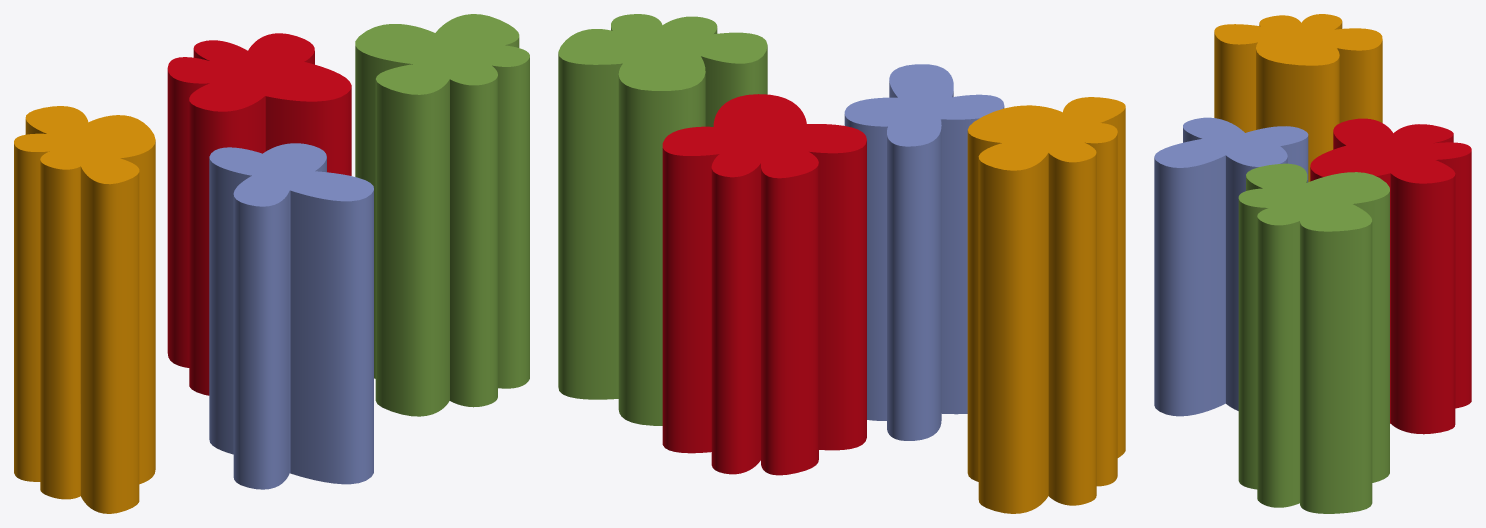
Rendered from superArchitetture NUVOLE.fbx.
3 renders of one model, left to right at view 1: azimuth 30°, elevation 25°; view 2: azimuth 150°, elevation 25°; view 3: azimuth 270°, elevation 25°, orthographic. The views are drawn at different scales.
Parts seen in each view (by area): view 1: Curve_001, Curve_002, Curve_004, Curve_003; view 2: Curve_003, Curve_002, Curve_001, Curve_004; view 3: Curve_001, Curve_003, Curve_004, Curve_002.
Boxes of the visible parts, x1,y1,x2,y2 form: Curve_001: (355, 14, 529, 416); Curve_002: (14, 106, 155, 513); Curve_004: (209, 143, 373, 489); Curve_003: (167, 33, 351, 395); Curve_003: (662, 94, 866, 475); Curve_002: (967, 97, 1125, 513); Curve_001: (558, 14, 767, 425); Curve_004: (844, 64, 1004, 440); Curve_001: (1238, 163, 1389, 513); Curve_003: (1310, 118, 1471, 434); Curve_004: (1154, 117, 1308, 416); Curve_002: (1214, 14, 1382, 181).
Bounding box in the file's own units: 20.27 × 12.78 × 12.71.
